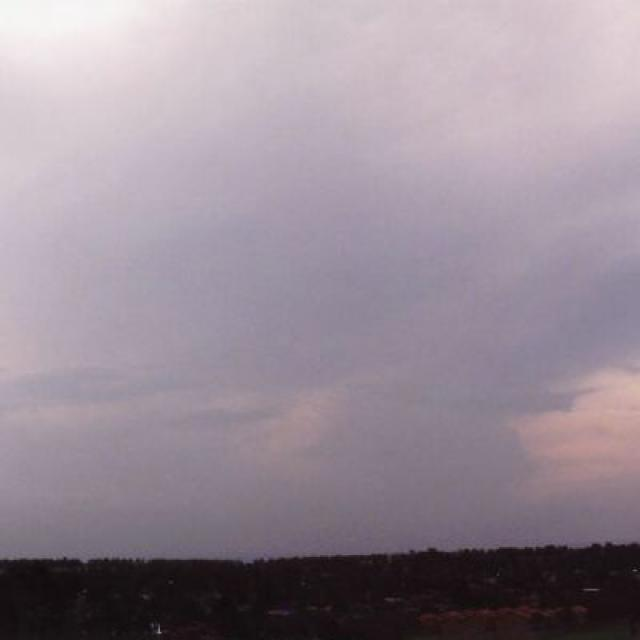St: (3, 58, 640, 456)
